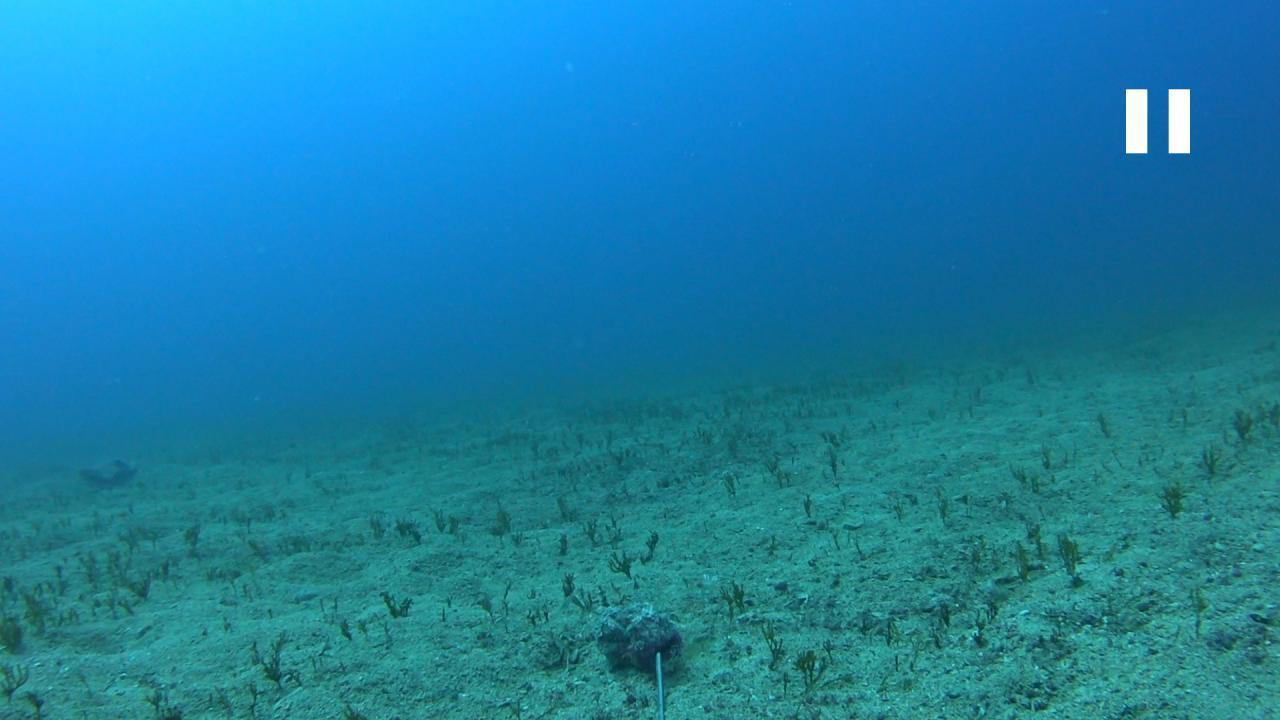dasyatis: (41, 458, 138, 487)
